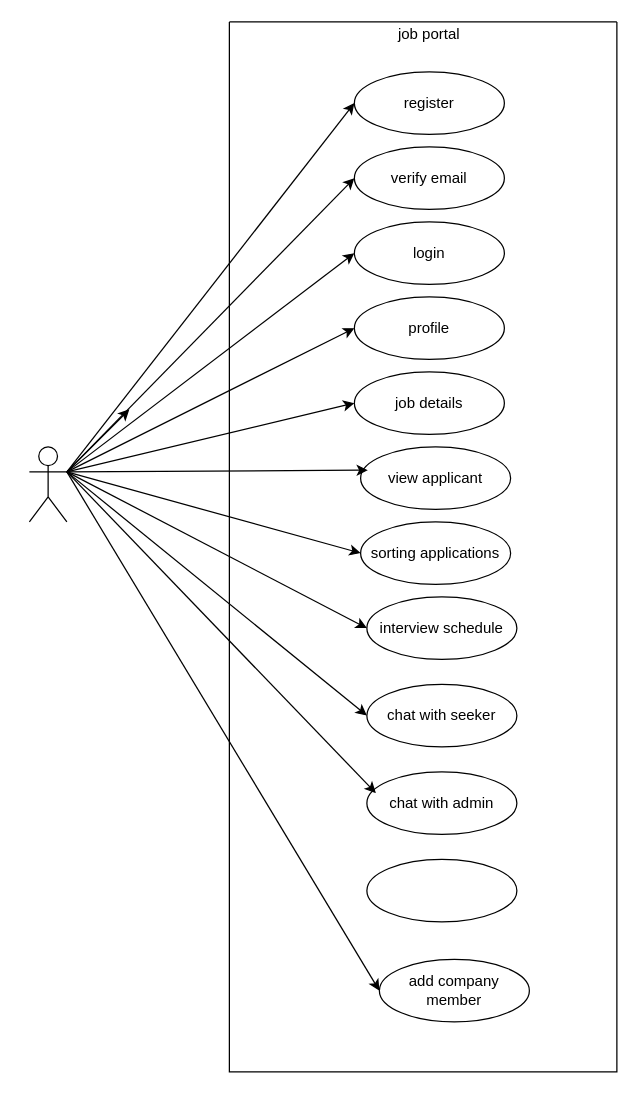
Some shapes in this 639 by 1094 pixel diagram are drawn without their labels. Here are the shapes that lost their labels. From the top down, the centre of each, then its label:
At [47,484]: "provider".
At [441,890]: "shortlist".
